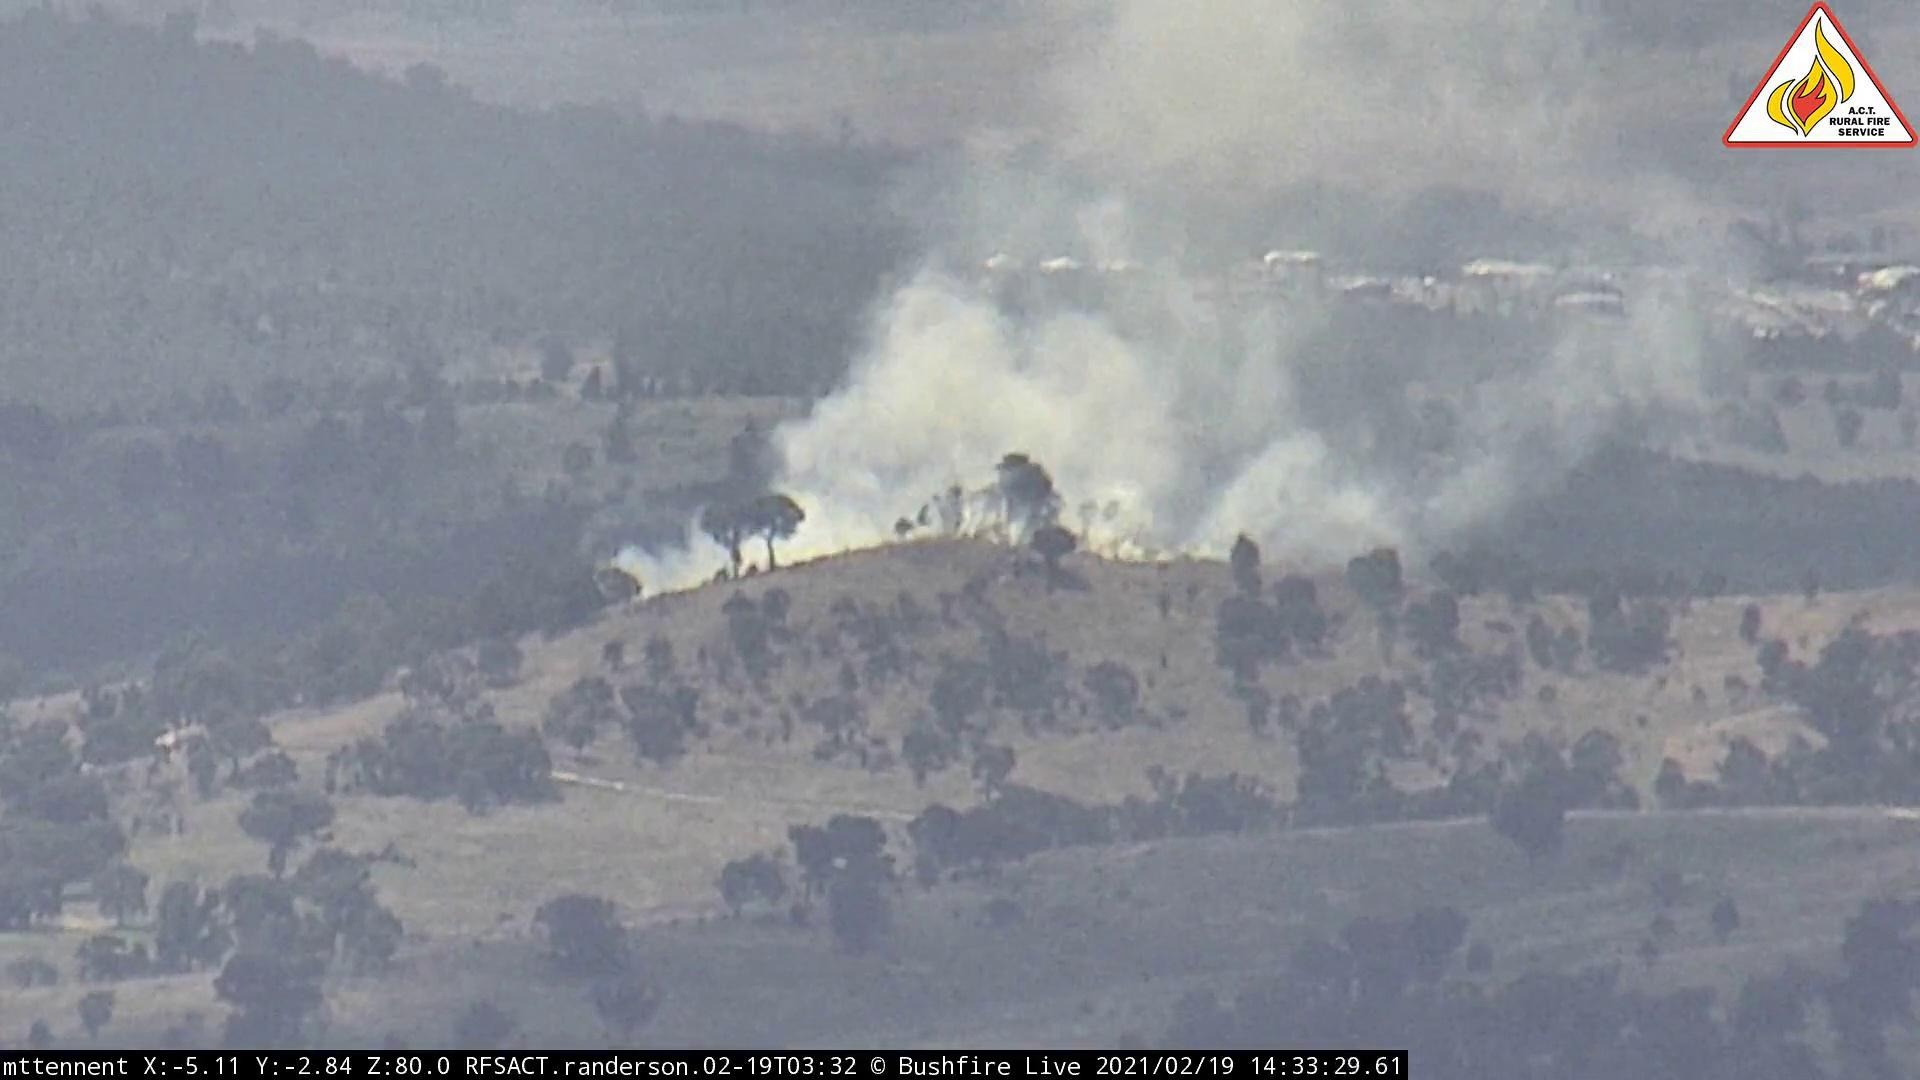Smoke: (603, 3, 1716, 622)
